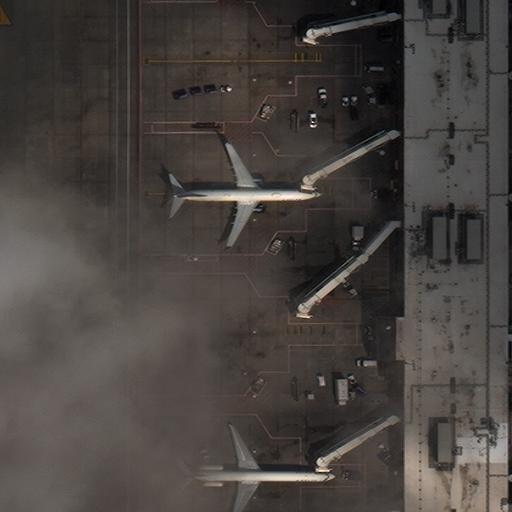Medium Civil Transport: (169, 143, 323, 246), (179, 426, 337, 512)
